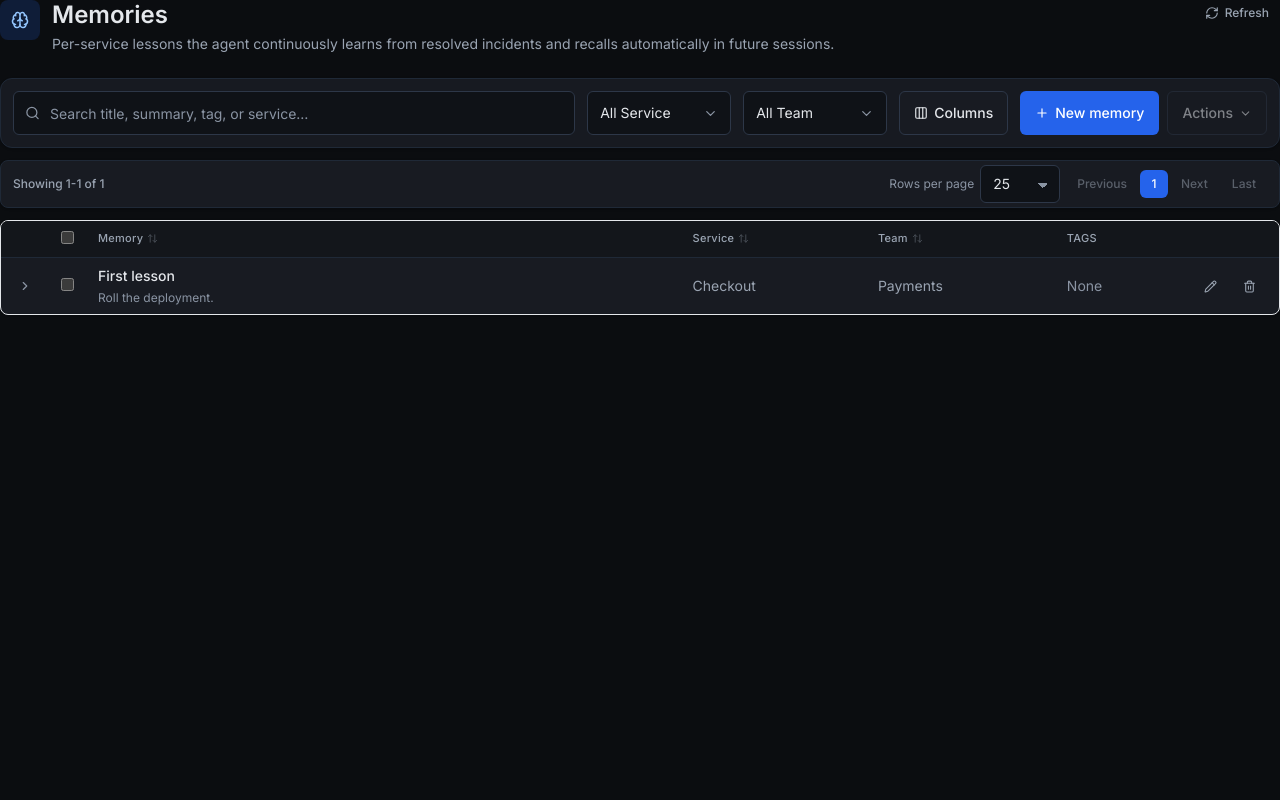
Scenario: Memories selection and actions › offers an operator only their teams' services, never Global
Click the button "New memory". click: (1090, 113)
box: [1020,91,1159,135]
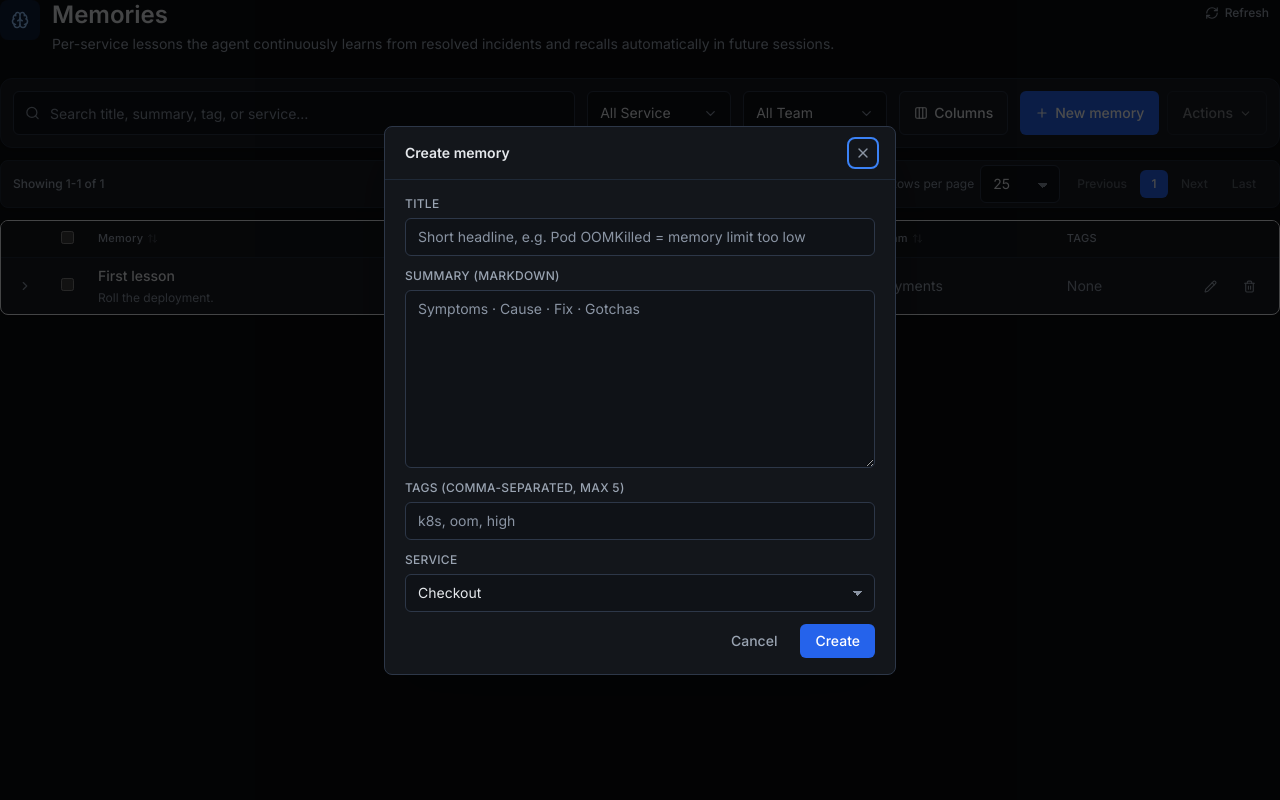
Result: the dropdown with id "mem-service" shows "Checkout" at [405,574,875,612]
